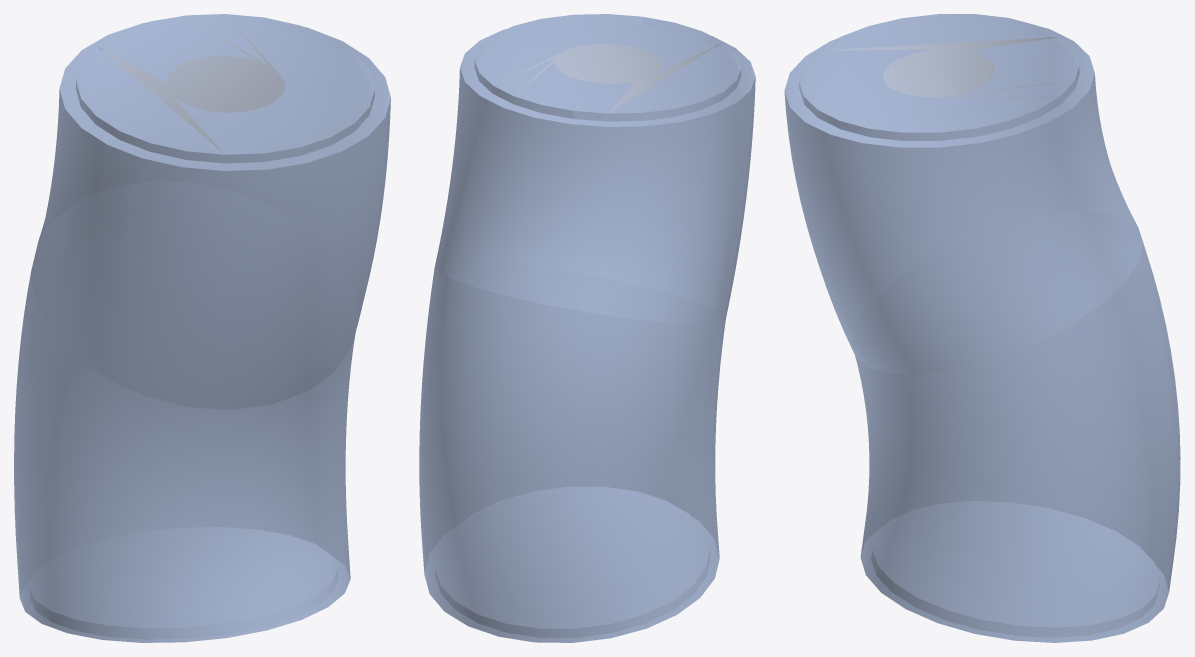
3 renders of one model, left to right at view 1: azimuth 30°, elevation 25°; view 2: azimuth 150°, elevation 25°; view 3: azimuth 270°, elevation 25°, orthographic. The views are drawn at different scales.
Size of the model in its own units: 0.7936 by 1.48 by 1.01.
